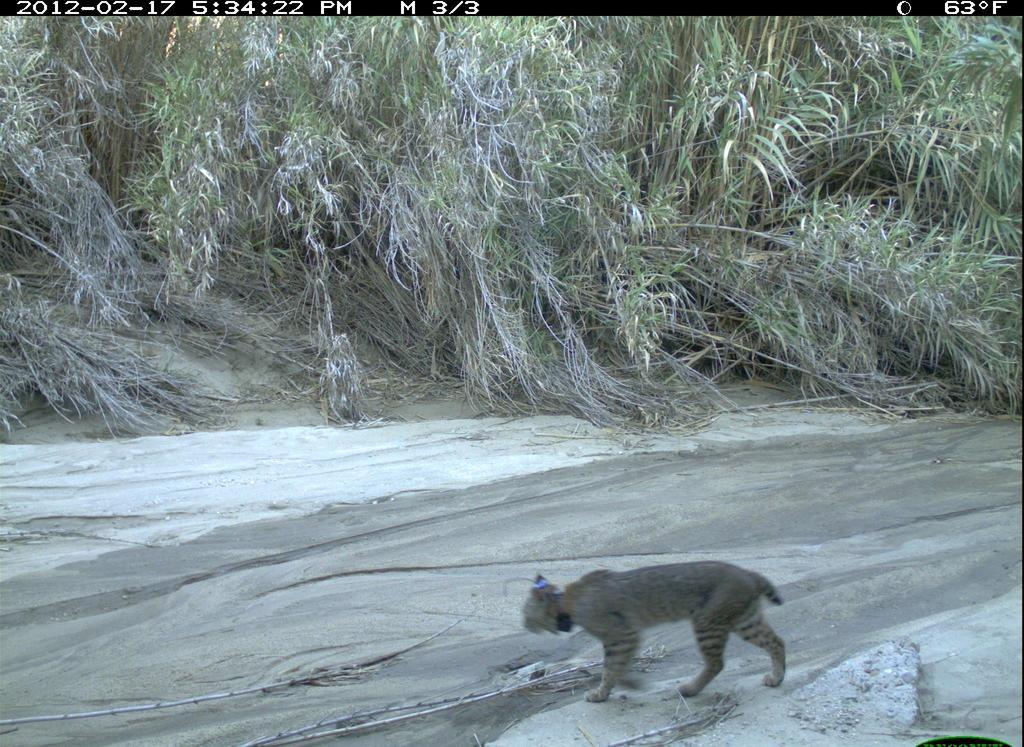bobcat: (515, 559, 793, 705)
